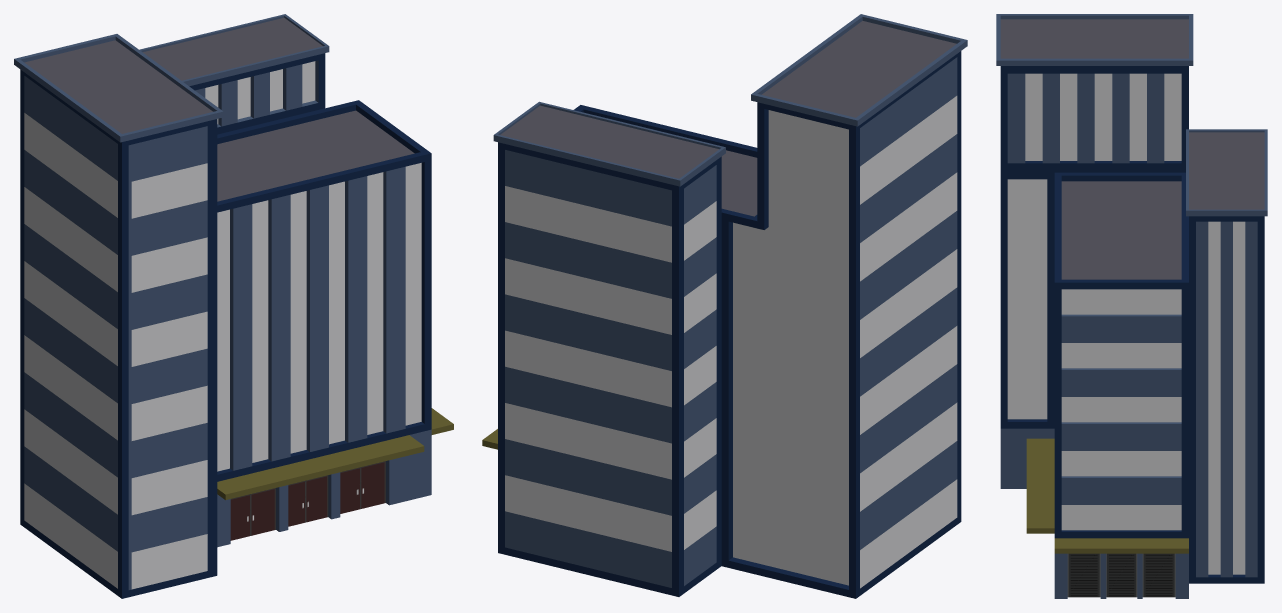
File: building28a.FBX
The picture shows the model from 3 angles, left to right: view 1: azimuth 30°, elevation 25°; view 2: azimuth 150°, elevation 25°; view 3: azimuth 270°, elevation 25°; orthographic projection. The views are drawn at different scales.
Parts seen in each view (by area): view 1: building28a; view 2: building28a; view 3: building28a.
Boxes of the visible parts, <box> form: building28a: <box>14,14,453,598</box>; building28a: <box>482,14,967,598</box>; building28a: <box>996,14,1267,598</box>.
Bounding box in the file's own units: 34.82 × 42.37 × 24.21.
